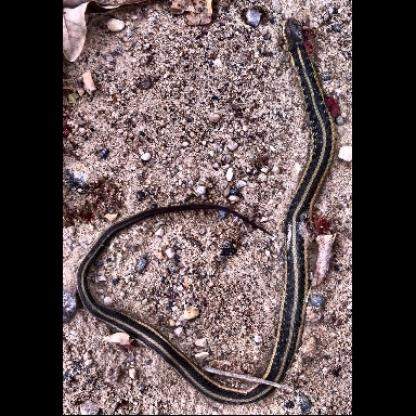Snake: (72, 17, 336, 410)
